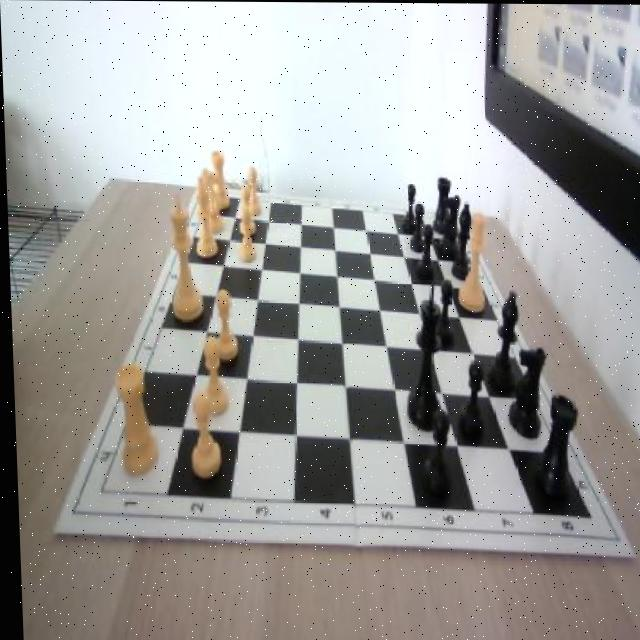bishop: (484, 289, 519, 388), (449, 200, 473, 277)
black-bishop: (399, 290, 443, 428)
black-king: (502, 346, 546, 438), (435, 191, 462, 256)
black-knight: (418, 412, 450, 499), (454, 356, 482, 442), (428, 276, 453, 347), (414, 226, 433, 281), (399, 184, 417, 236), (407, 202, 425, 251)
black-queen: (530, 394, 576, 508), (430, 176, 450, 234)
black-rook: (193, 176, 217, 255)
white-bishop: (165, 189, 200, 318)
white-king: (197, 166, 223, 236)
white-knight: (184, 392, 219, 481), (199, 336, 231, 419), (208, 287, 236, 359), (235, 206, 256, 262), (238, 183, 254, 236), (245, 164, 259, 214)
white-pawn: (452, 210, 486, 311)
white-queen: (111, 362, 155, 475), (209, 150, 229, 210)
